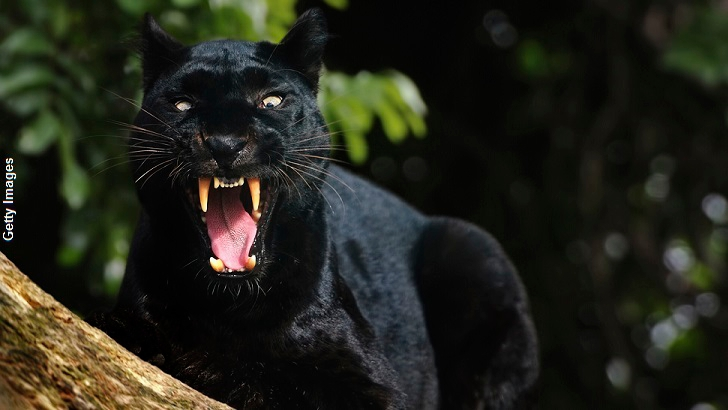panther: (93, 8, 547, 410)
